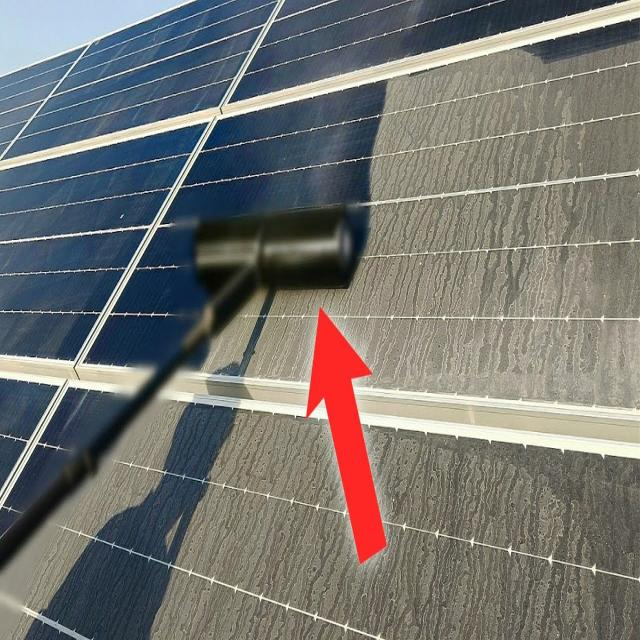dust-solar-panel: (0, 12, 640, 640)
